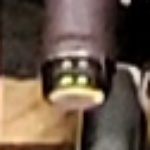bottle: (26, 34, 124, 131)
